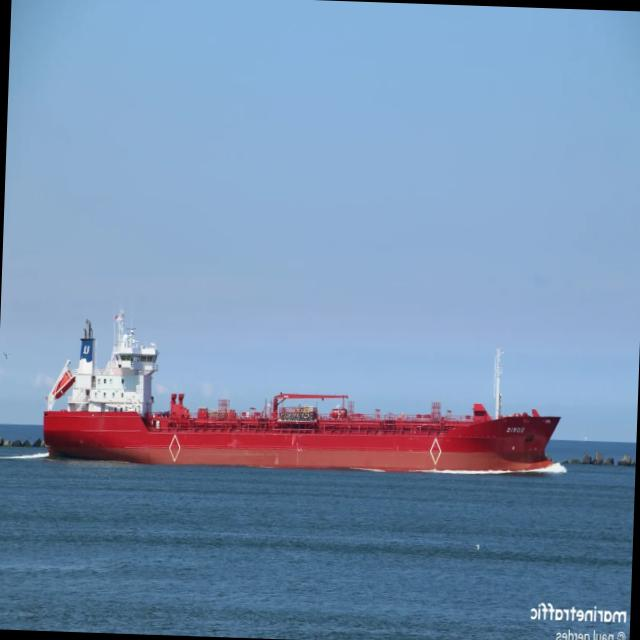Tanker: (43, 309, 560, 471)
